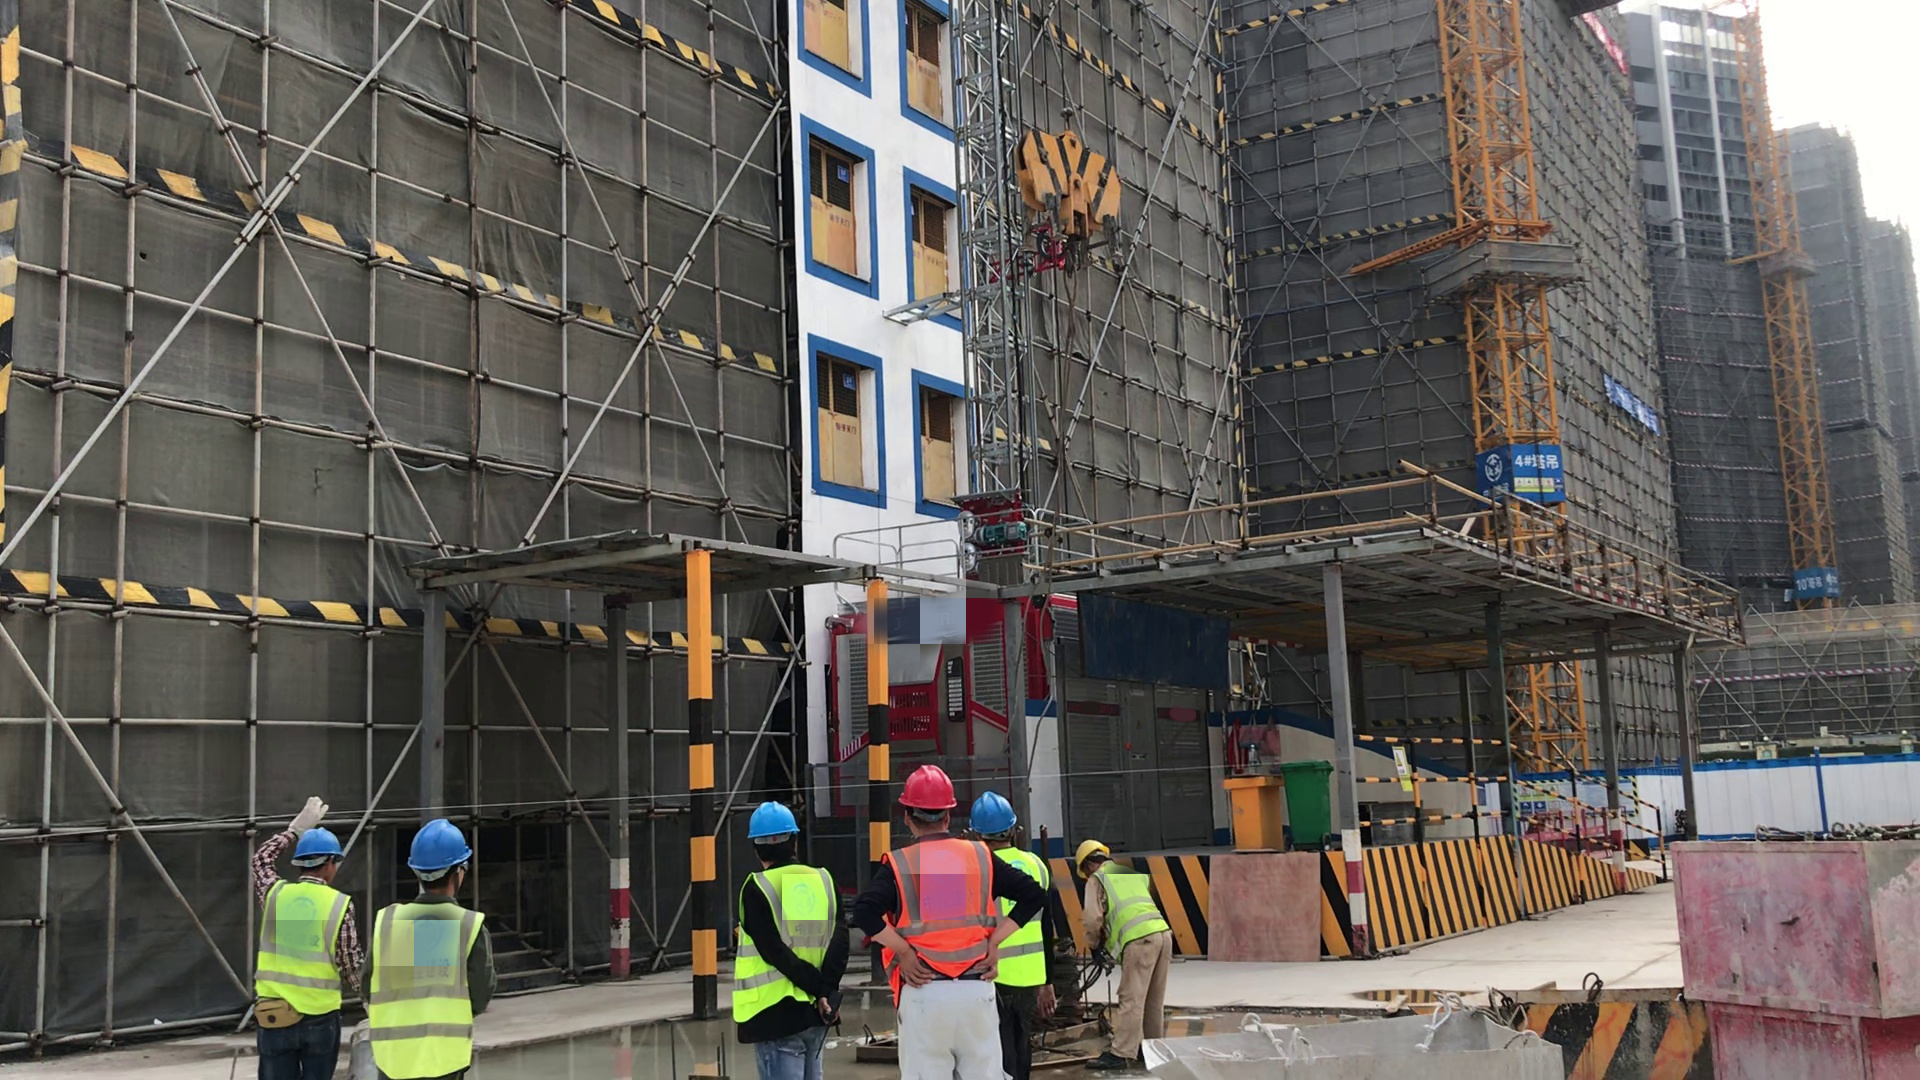fence: (1330, 713, 1665, 895)
helmet: (404, 815, 467, 893), (898, 761, 963, 816), (286, 818, 364, 863), (746, 793, 805, 845), (972, 790, 1020, 843), (1070, 840, 1114, 878)
hook: (1010, 115, 1131, 278)
hopper: (1146, 1006, 1571, 1080), (1491, 975, 1704, 1080)
person: (858, 756, 1020, 1080), (241, 797, 374, 1080), (729, 787, 856, 1080), (372, 814, 500, 1080), (1074, 828, 1179, 1080), (962, 789, 1067, 1020)
vest: (369, 893, 488, 1080), (872, 833, 997, 1005), (732, 862, 843, 1040), (247, 866, 361, 1036), (991, 844, 1062, 1011), (1083, 871, 1171, 994)
